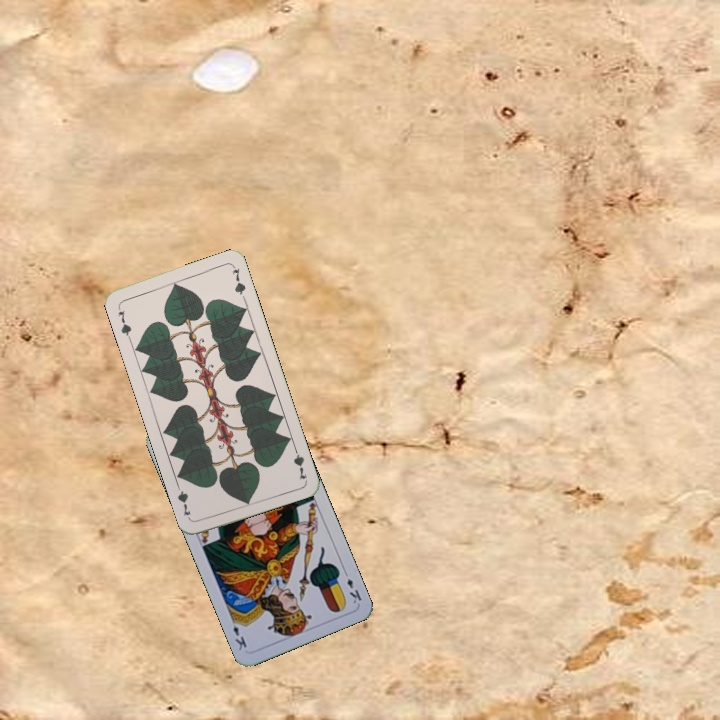EK: (339, 566, 364, 606)
G7: (289, 442, 309, 482), (114, 306, 134, 342)
